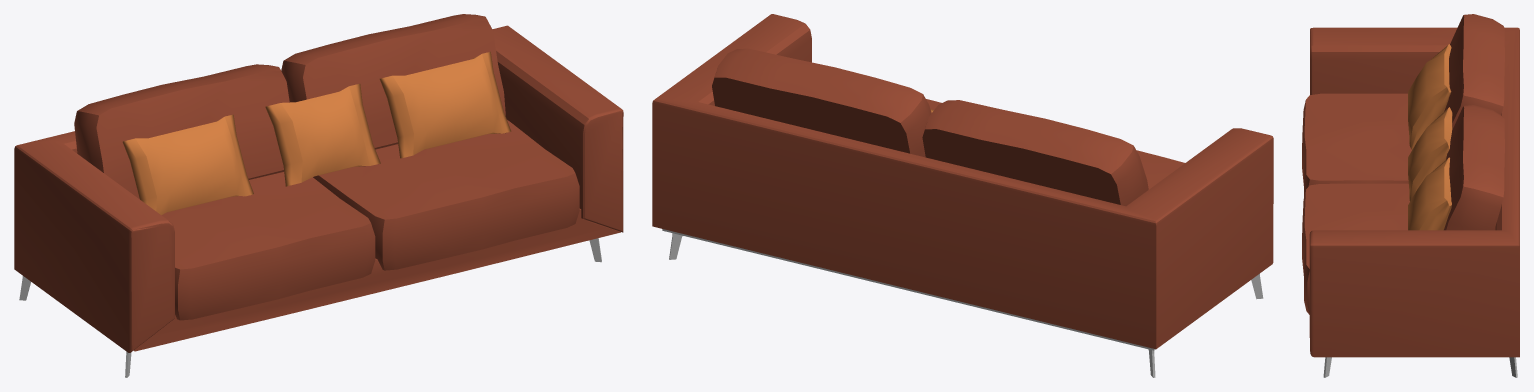
File: CEO_Sofa2.fbx
The picture shows the model from 3 angles, left to right: view 1: azimuth 30°, elevation 25°; view 2: azimuth 150°, elevation 25°; view 3: azimuth 270°, elevation 25°; orthographic projection. The views are drawn at different scales.
Visible parts, largest first — view 1: Rectangle019; view 2: Rectangle019; view 3: Rectangle019.
Boxes of the visible parts, box(x1,y1,x2,y2) form: Rectangle019: box(14, 14, 623, 377); Rectangle019: box(652, 14, 1273, 377); Rectangle019: box(1302, 14, 1519, 377).
Size of the model in its own units: 283 by 109 by 120.
